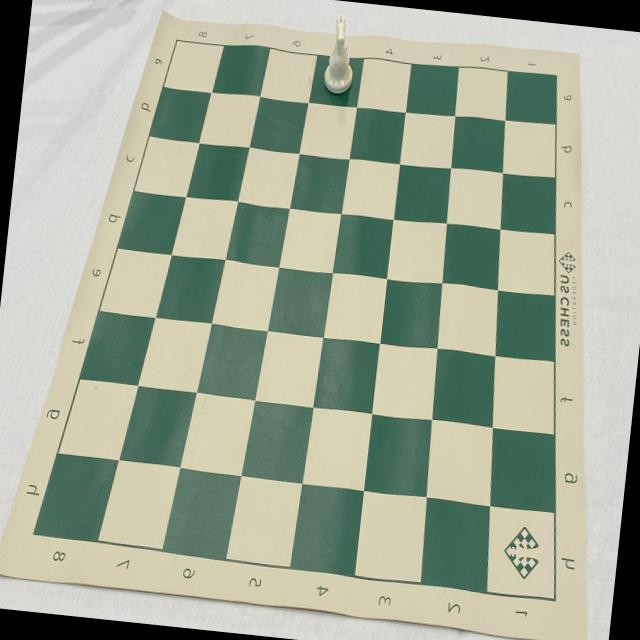white-knight: (320, 10, 360, 96)
